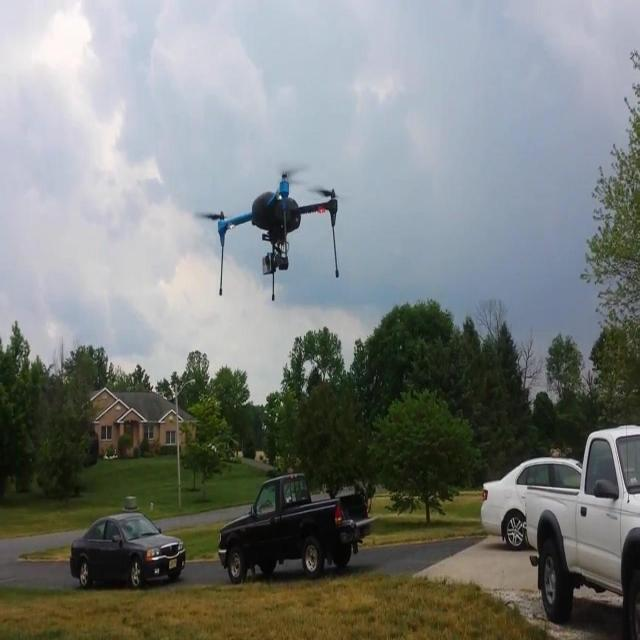drone: (198, 161, 352, 301)
